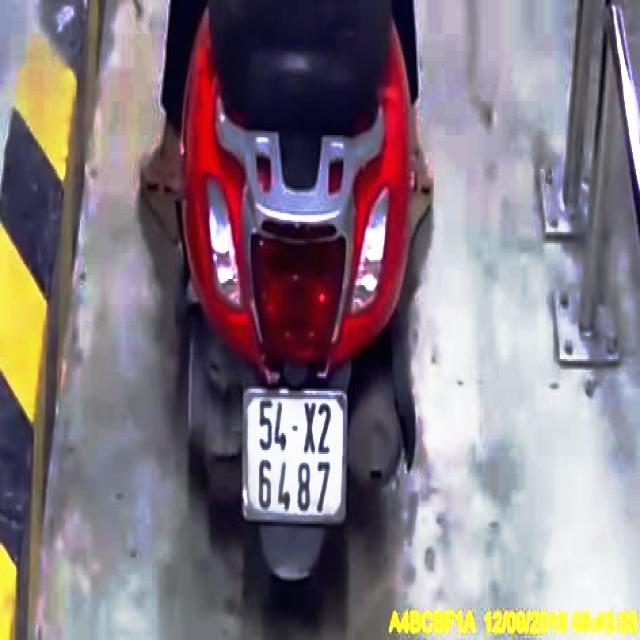license_plate: (244, 392, 349, 524)
